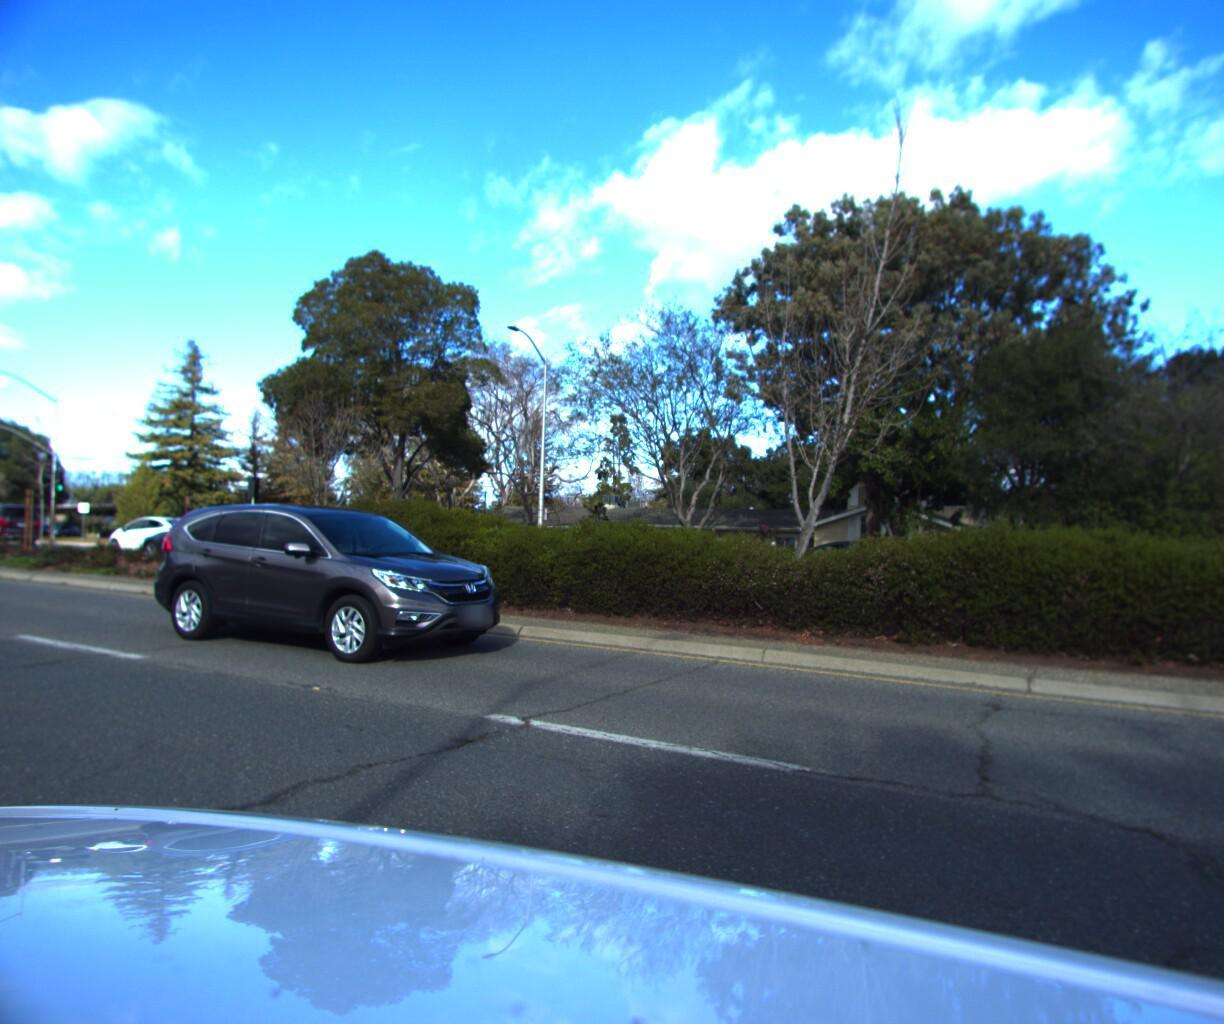car: (145, 485, 536, 672), (745, 536, 941, 615), (116, 508, 289, 579), (101, 513, 221, 560), (0, 506, 41, 552)
